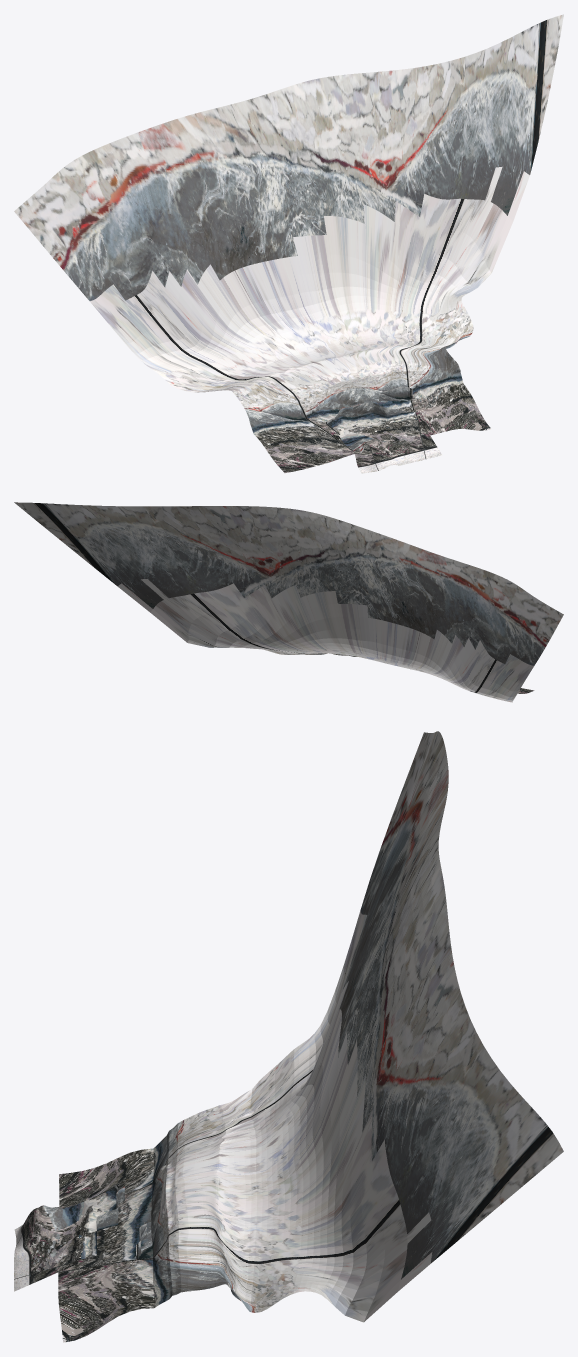
The model's file is gletscher_03_flip_normals.fbx.
3 views of the same model, one above another, from view 1: azimuth 30°, elevation 25°; view 2: azimuth 150°, elevation 25°; view 3: azimuth 270°, elevation 25° (orthographic). The views are drawn at different scales.
Visible parts, largest first — view 1: hinter_grund, vorderGrund; view 2: hinter_grund; view 3: hinter_grund, vorderGrund.
Part boxes in pixels (left/top/right/bottom): hinter_grund: left=14, top=14, right=563, bottom=472; vorderGrund: left=326, top=402, right=441, bottom=473; hinter_grund: left=14, top=502, right=563, bottom=702; hinter_grund: left=58, top=731, right=563, bottom=1342; vorderGrund: left=14, top=1184, right=124, bottom=1291.
Bounding box in the file's own units: 2554 × 1119 × 1325.
